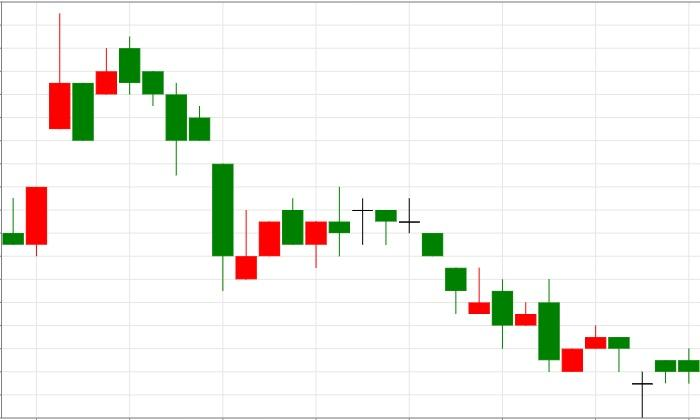inverse_hammer_rise: (119, 36, 257, 291)
